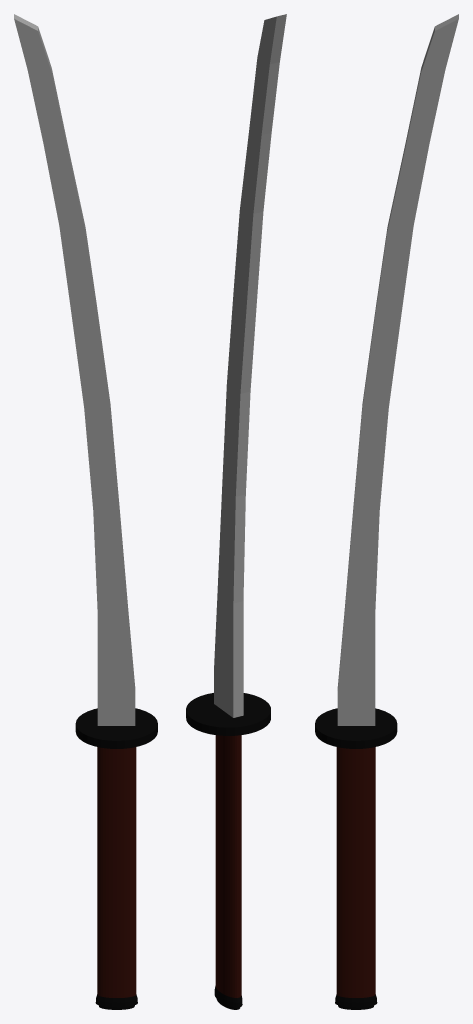
File: weapon_4.fbx
3 renders of one model, left to right at view 1: azimuth 90°, elevation 25°; view 2: azimuth 210°, elevation 25°; view 3: azimuth 270°, elevation 25°, orthographic. The views are drawn at different scales.
Parts seen in each view (by area): view 1: Cylindre; view 2: Cylindre; view 3: Cylindre.
Boxes of the visible parts, box(x1,y1,x2,y2) form: Cylindre: box(14, 14, 157, 1009); Cylindre: box(186, 14, 286, 1009); Cylindre: box(315, 14, 458, 1009).
Size of the model in its own units: 36.34 by 483 by 63.59.
